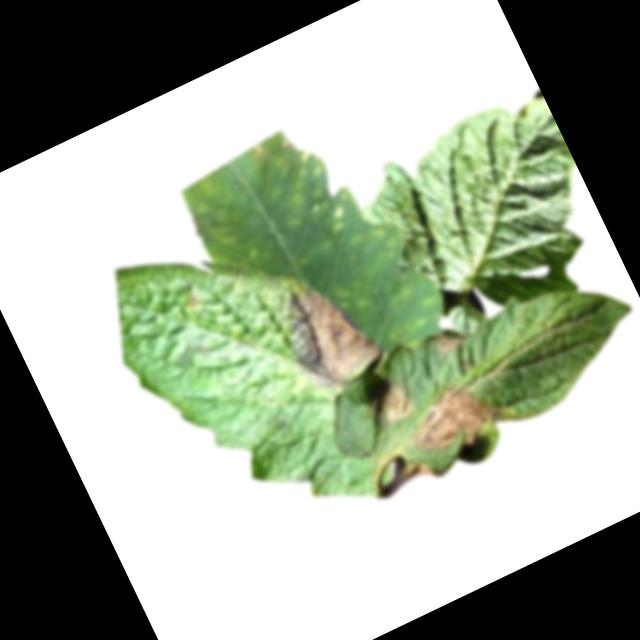Late_blight: (264, 263, 390, 403), (393, 370, 508, 469), (356, 373, 417, 433), (396, 455, 433, 488), (433, 327, 466, 356)
healthy: (339, 83, 625, 362)
